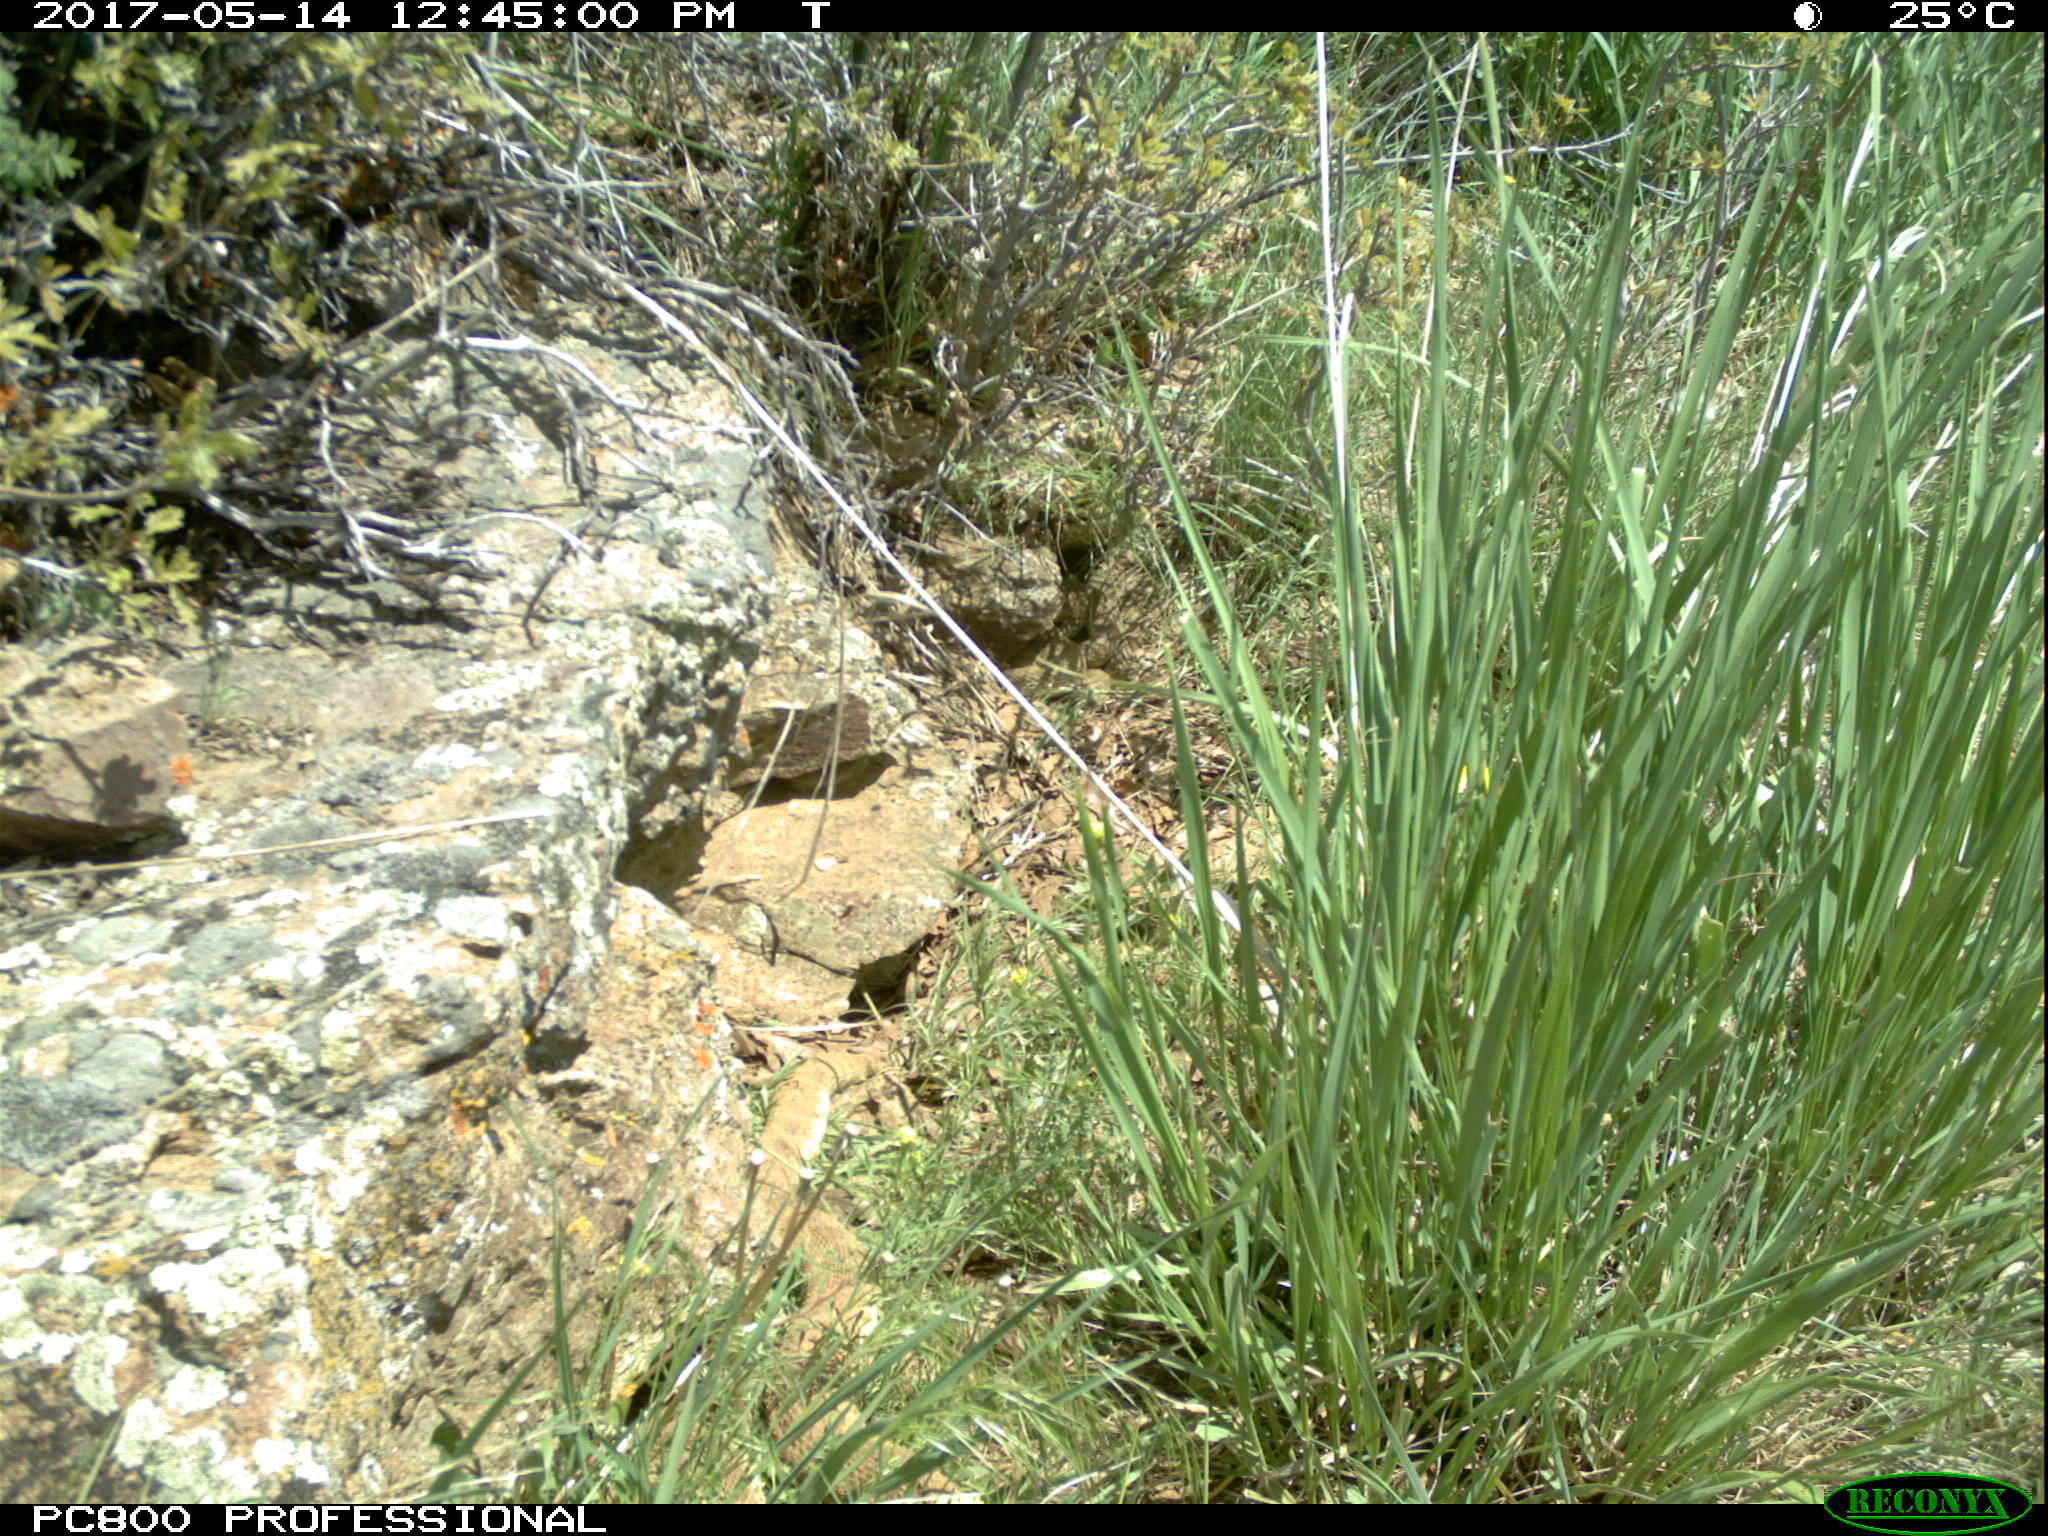snake: (747, 1042, 887, 1492), (992, 632, 1129, 699)
